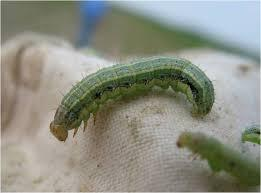fallarmy_worm: (45, 54, 215, 145)
